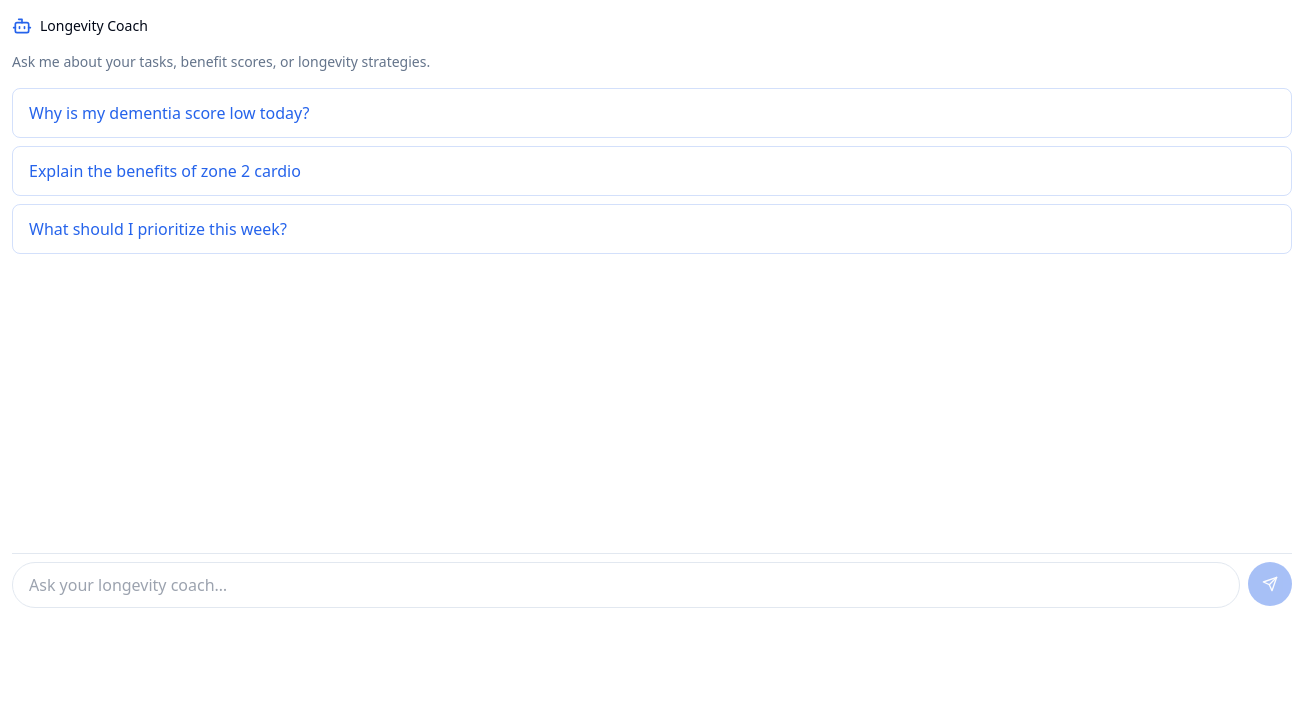
Test: MarkdownMessage rendering › renders a bullet list with · glyphs
The width and height of the screenshot is (1304, 720).
Type "test" into the field with placeholder "Ask your longevity coach…" at (626, 585), box [12,562,1240,608]
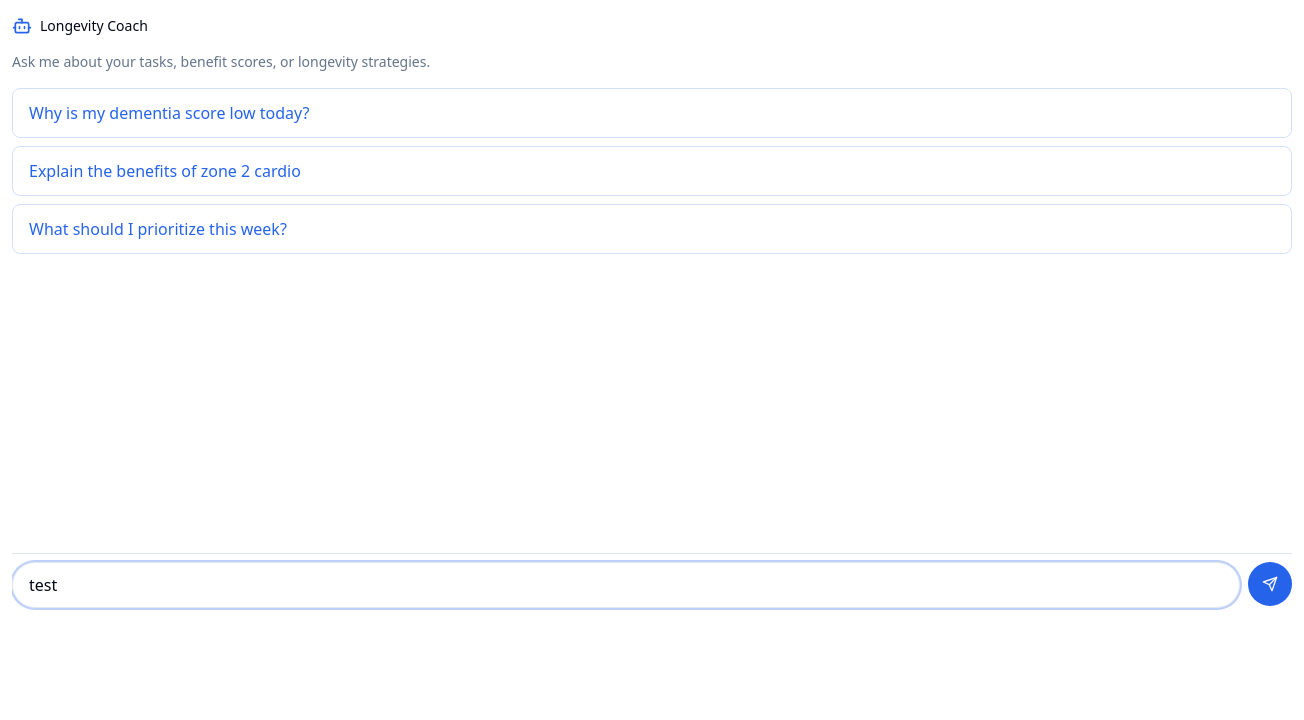
Click the 4th button at (1270, 584), box [1248,562,1292,606]
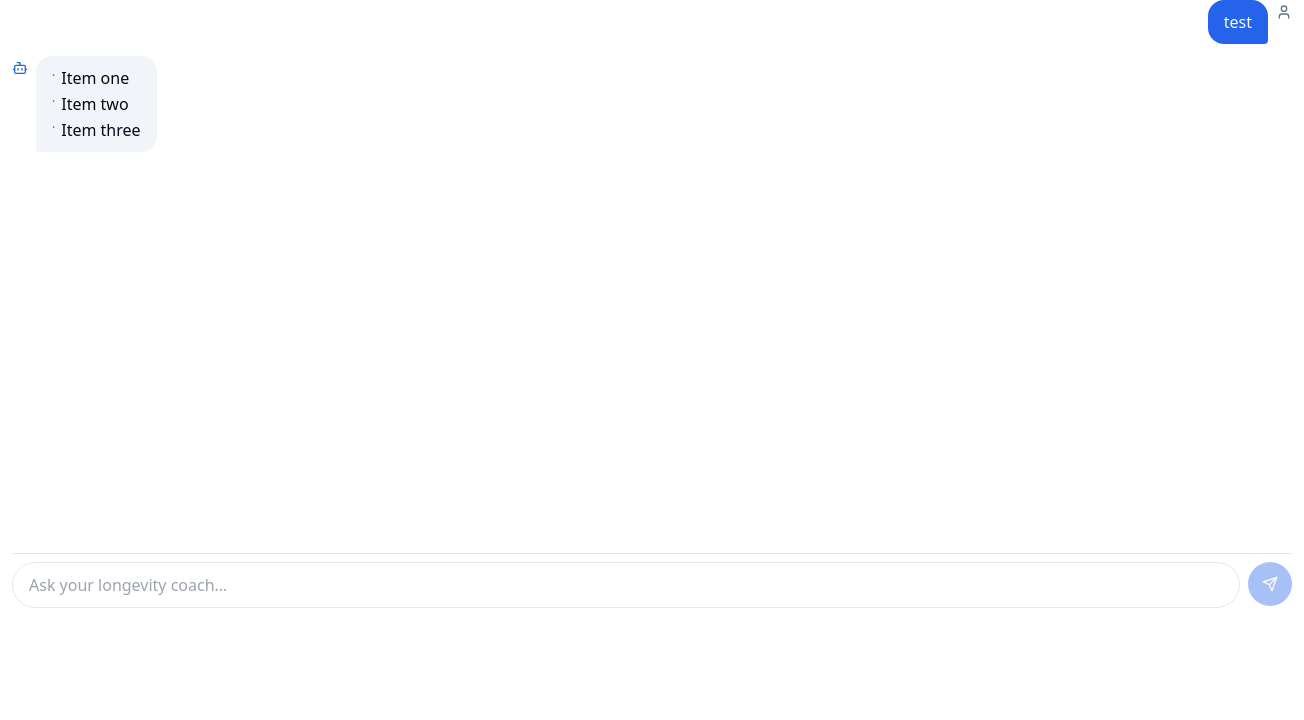
Expected: the text "·" is shown 3 times, [52,68,55,84]; [52,94,55,110]; [52,120,55,136]
Expected: the text "Item one" is shown, [61,66,129,90]
Expected: the text "Item two" is shown, [61,92,129,116]
